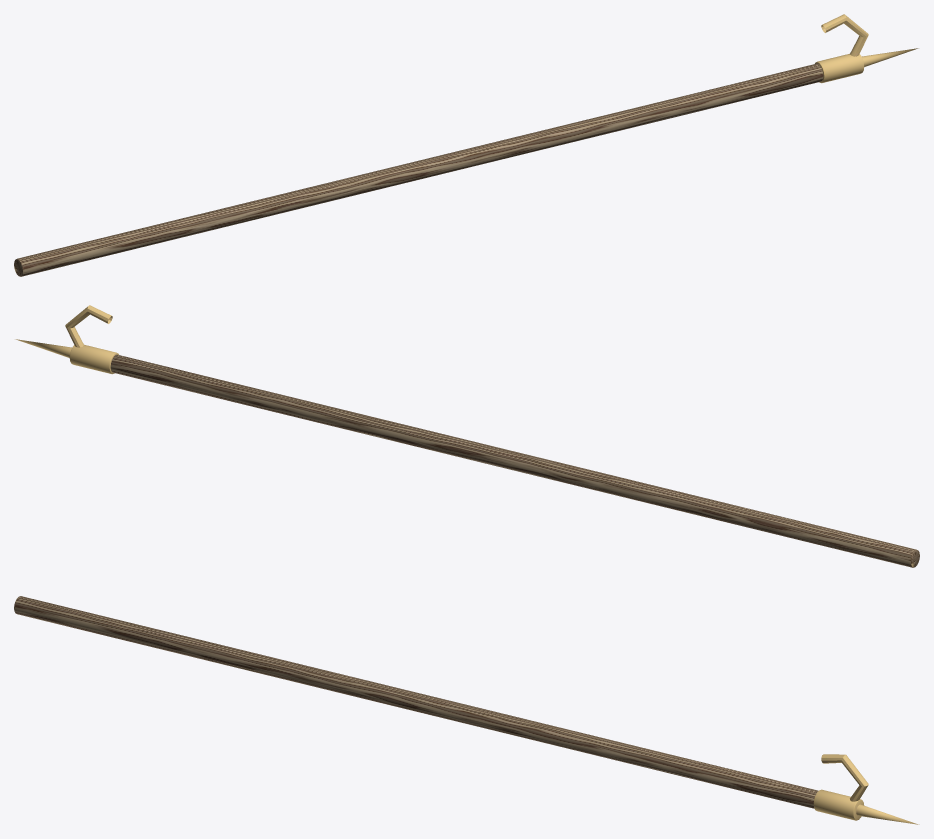
The model's file is boathook.glb.
3 renders of one model, top to bottom at view 1: azimuth 30°, elevation 25°; view 2: azimuth 150°, elevation 25°; view 3: azimuth 330°, elevation 25°, orthographic.
Parts seen in each view (by area): view 1: pole, socket, hook; view 2: pole, socket, hook; view 3: pole, socket, hook.
Part boxes in pixels (x1,y1,x2,y2): pole: [14, 63, 823, 276]; socket: [815, 53, 864, 83]; hook: [821, 14, 868, 56]; pole: [110, 354, 919, 567]; socket: [69, 344, 118, 374]; hook: [65, 305, 112, 347]; pole: [14, 596, 818, 808]; socket: [813, 789, 864, 820]; hook: [821, 754, 868, 801].
Size of the model in its own units: 1.78 by 0.1163 by 0.038.
1 material, 1 textured.
